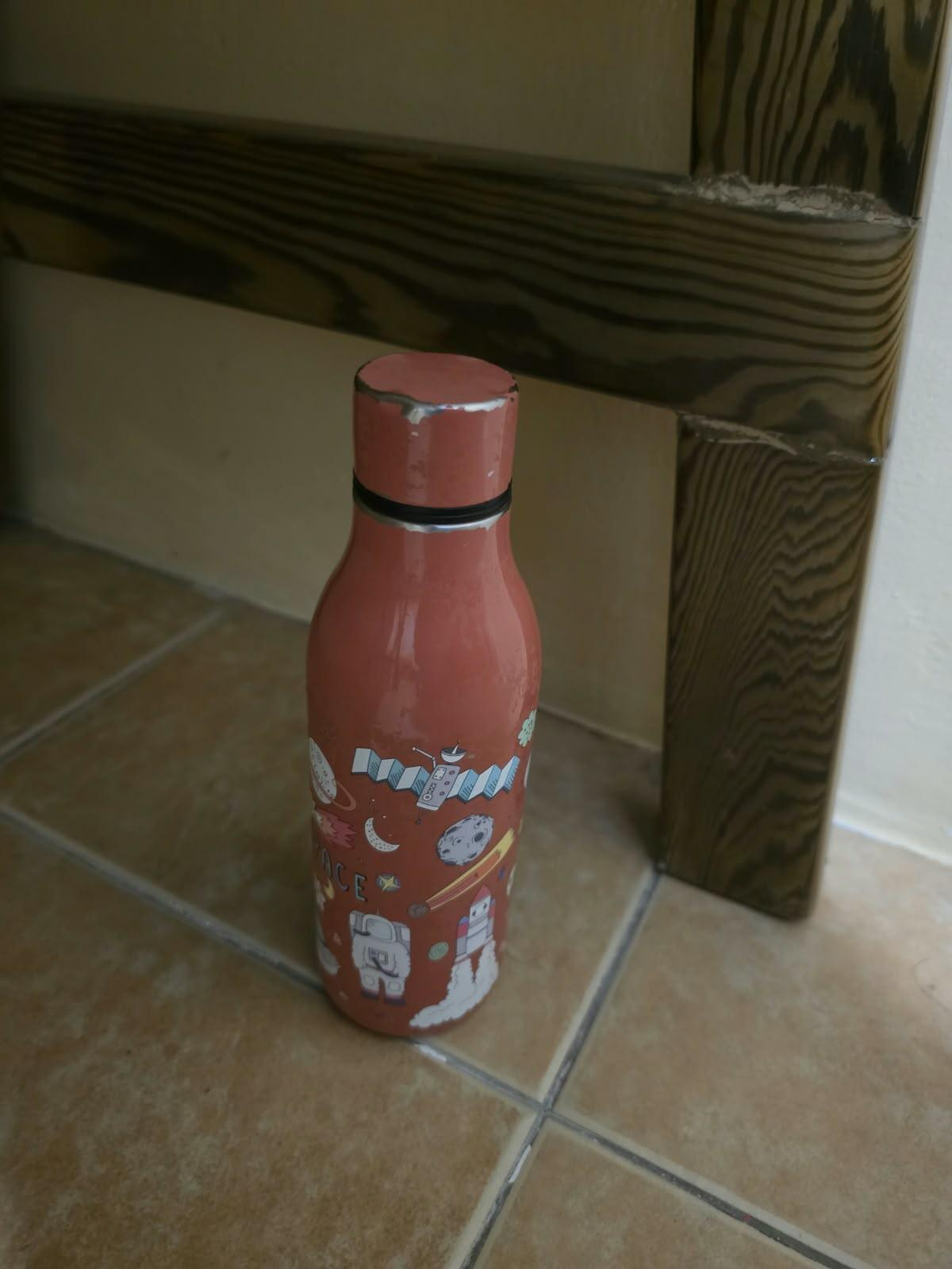bottle: (305, 351, 541, 1039)
